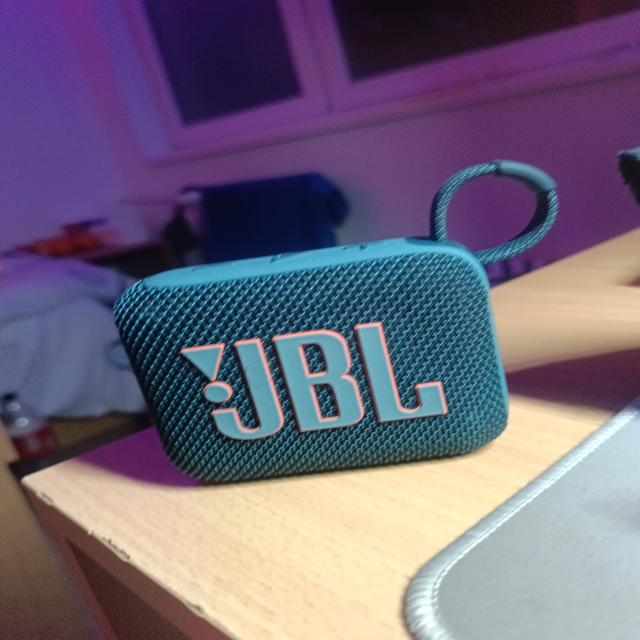column JBL: (102, 158, 560, 481)
